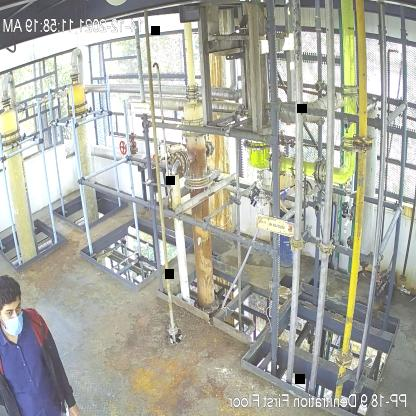no_goggles: (3, 302, 22, 318)
